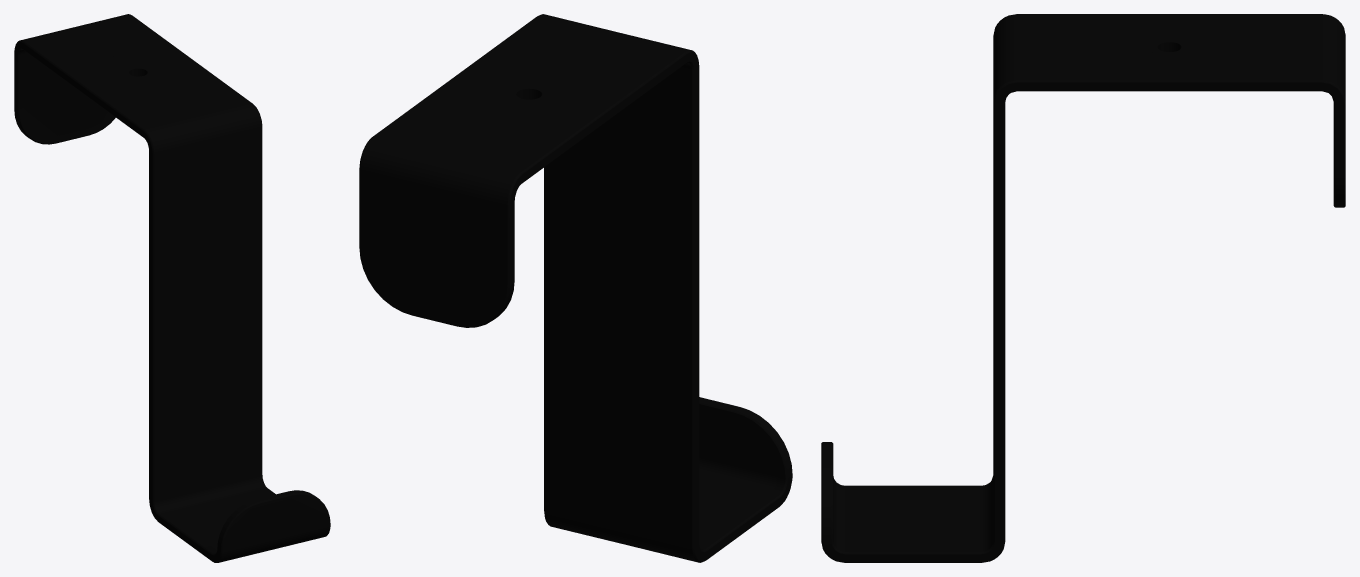
File: skogsviken_hak_na_drzwi_20423819.glb
3 views of the same model, side by side, from view 1: azimuth 30°, elevation 25°; view 2: azimuth 150°, elevation 25°; view 3: azimuth 270°, elevation 25° (orthographic). The views are drawn at different scales.
Parts seen in each view (by area): view 1: skogsviken_hak_na_drzwi_20423819; view 2: skogsviken_hak_na_drzwi_20423819; view 3: skogsviken_hak_na_drzwi_20423819.
Part boxes in pixels (x1,y1,x2,y2): skogsviken_hak_na_drzwi_20423819: (14, 14, 330, 562); skogsviken_hak_na_drzwi_20423819: (359, 14, 792, 562); skogsviken_hak_na_drzwi_20423819: (821, 14, 1345, 562).
Size of the model in its own units: 0.02 by 0.0665 by 0.0655.
1 material, 1 textured.
